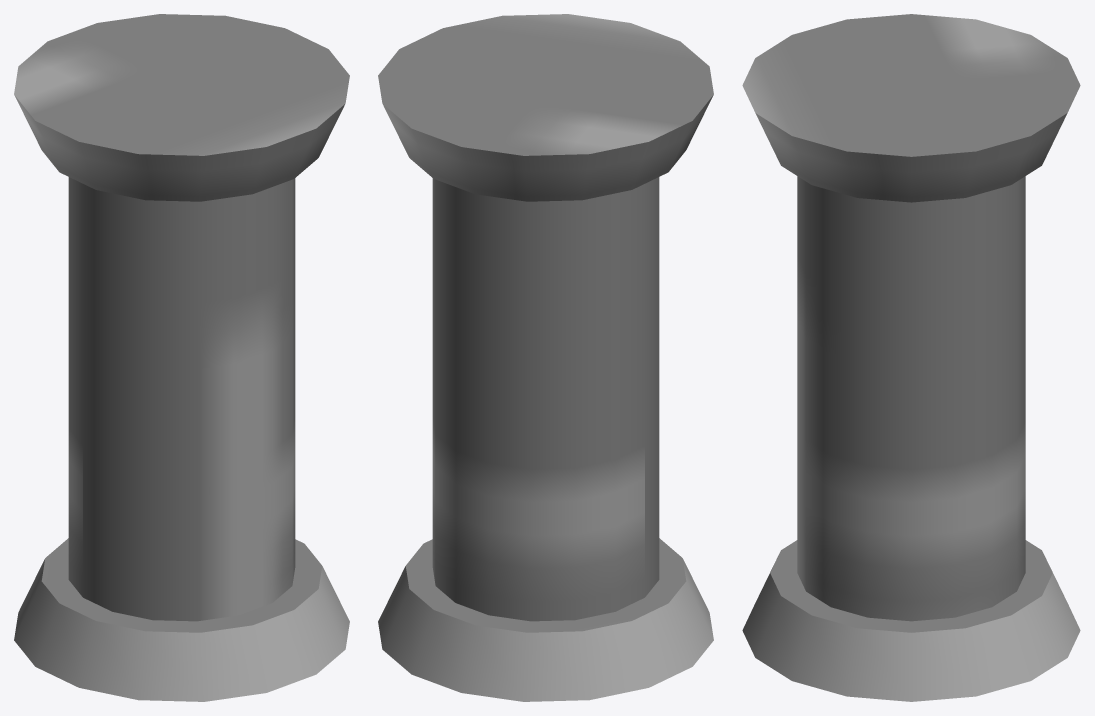
The model's file is prop_Pillar_EM_B.fbx.
The picture shows the model from 3 angles, left to right: view 1: azimuth 30°, elevation 25°; view 2: azimuth 150°, elevation 25°; view 3: azimuth 270°, elevation 25°; orthographic projection.
Visible parts, largest first — view 1: prop_Pillar_EM_B; view 2: prop_Pillar_EM_B; view 3: prop_Pillar_EM_B.
Part boxes in pixels (<box>): prop_Pillar_EM_B: <box>14,14,349,701</box>; prop_Pillar_EM_B: <box>378,14,713,701</box>; prop_Pillar_EM_B: <box>742,14,1080,701</box>.
Size of the model in its own units: 235 by 419 by 235.
